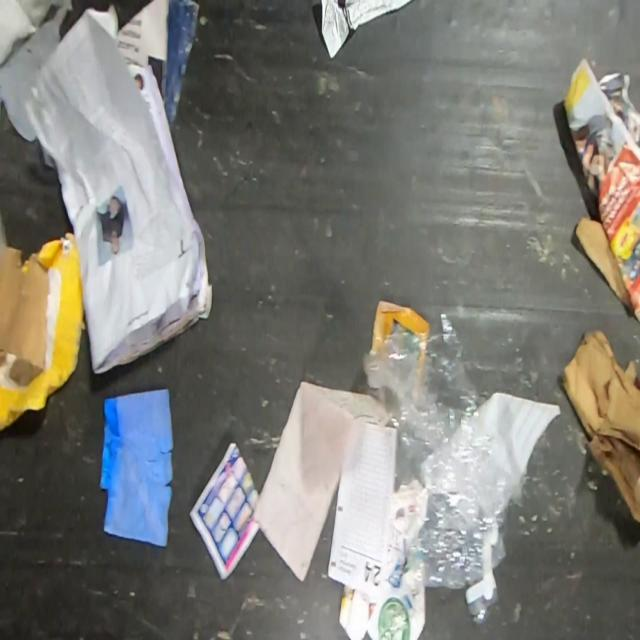cardboard: (559, 330, 640, 524), (0, 245, 50, 370), (574, 215, 627, 308)
soft_plastic: (357, 301, 523, 624)
